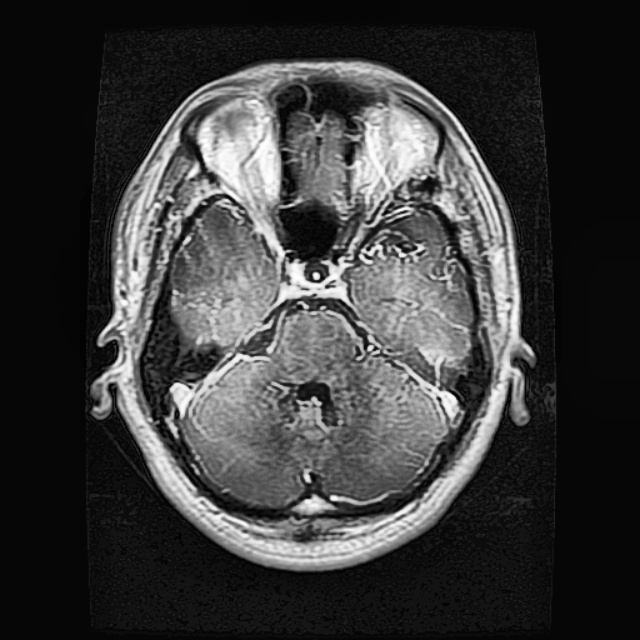Pituitary: (357, 229, 422, 260)
